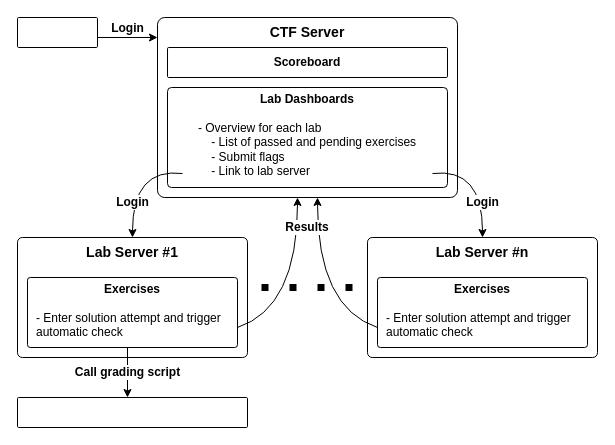
The diagram is 615 pixels wide and 445 high, and some of its shapes have lost their labels. The centre of each missing label's shape, as x and y in pixels:
"Moodle" belongs at point 57,32.
"Other Container" belongs at point 132,412.
